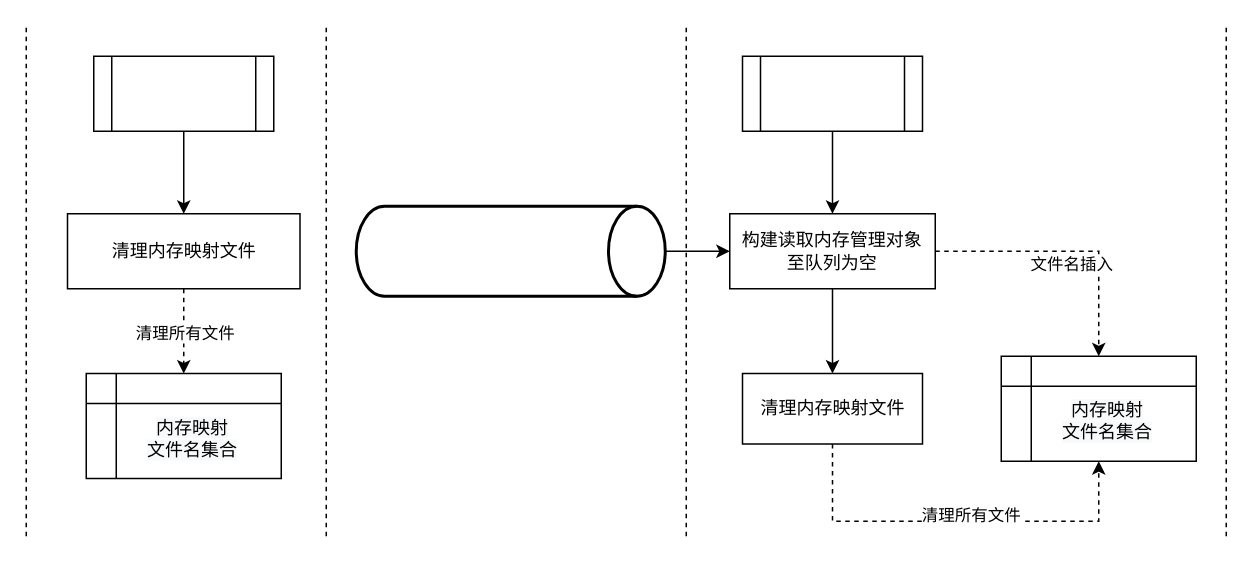
Some shapes in this 1254 by 564 pixel diagram are drawn without their labels. Each missing label, with the centre of its shape:
"源进程" belongs at (x=183, y=93).
"目标进程" belongs at (x=831, y=93).
"进程间队列或管道" belongs at (x=510, y=250).
